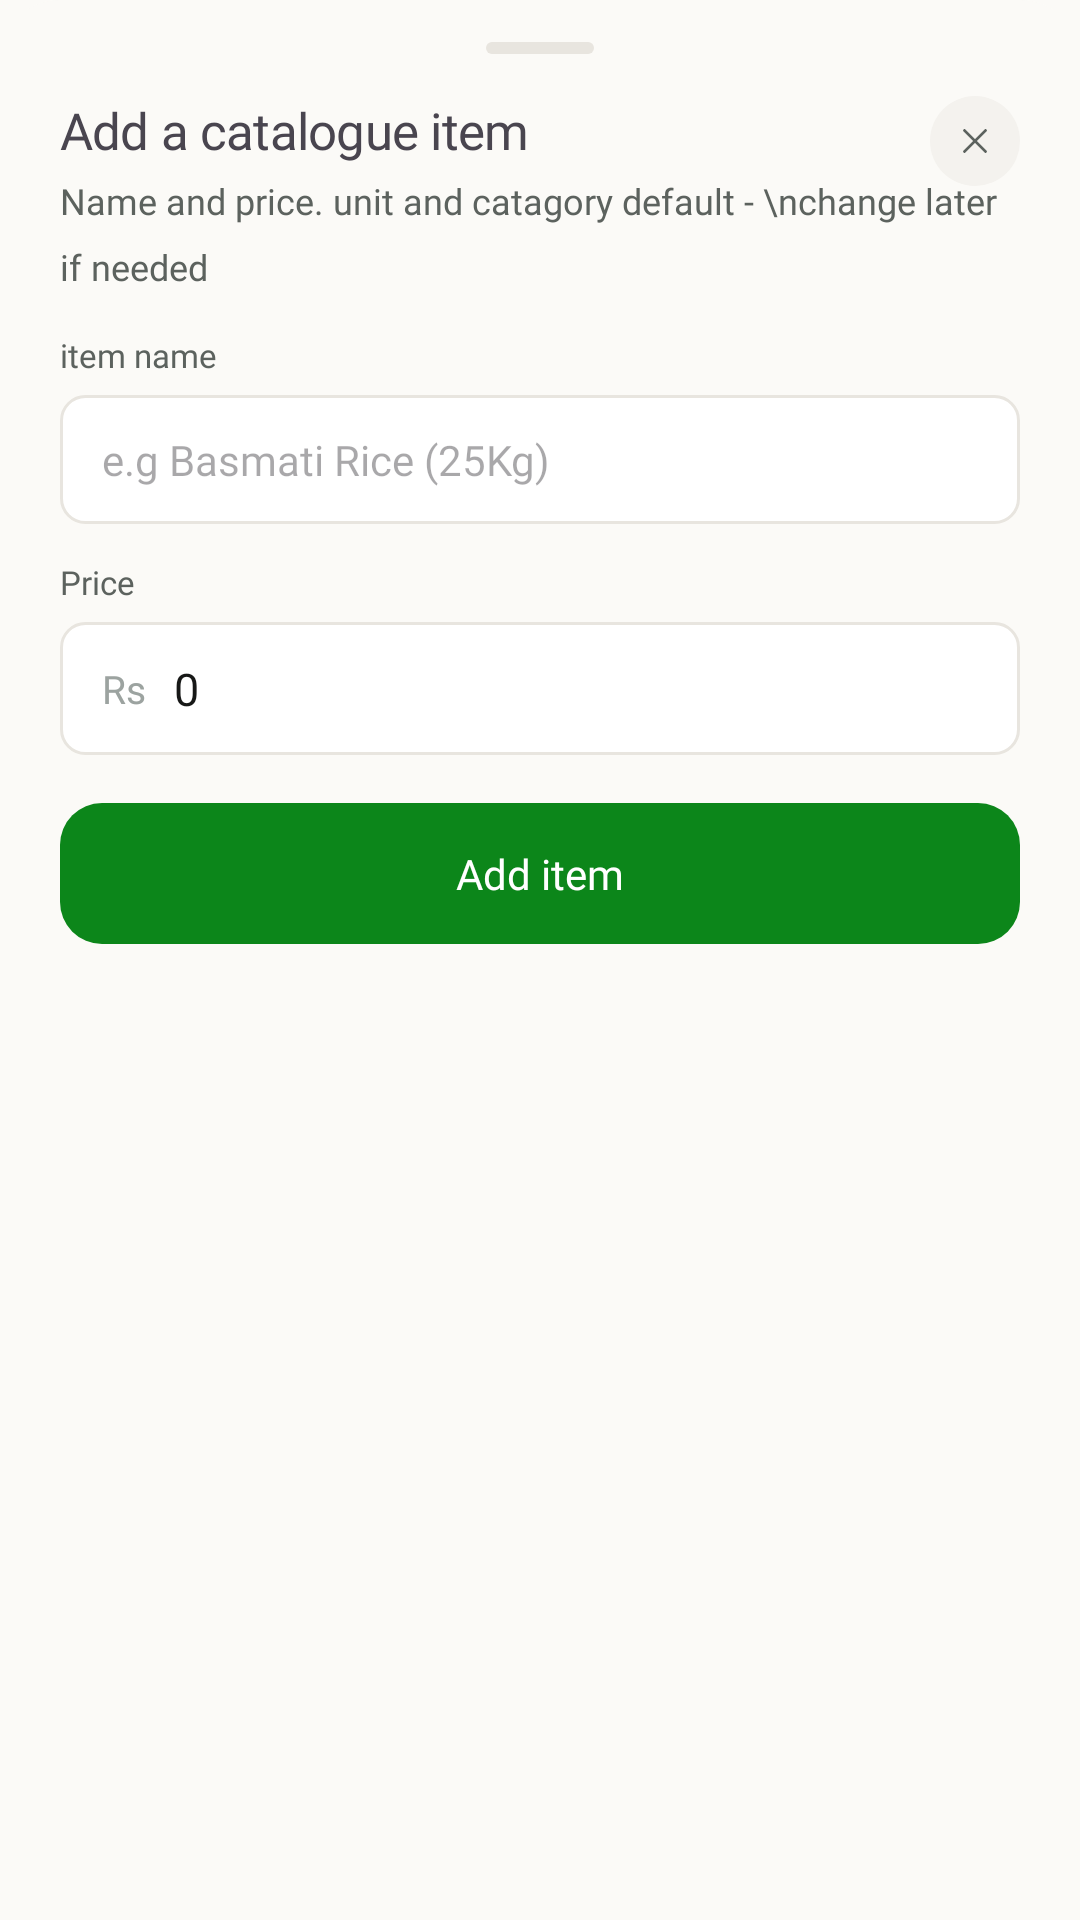

Named icons in this screenshot (1080*1920) and their bounding boxes, (x1, y1, x2, y2):
close: (963, 129, 987, 153)
